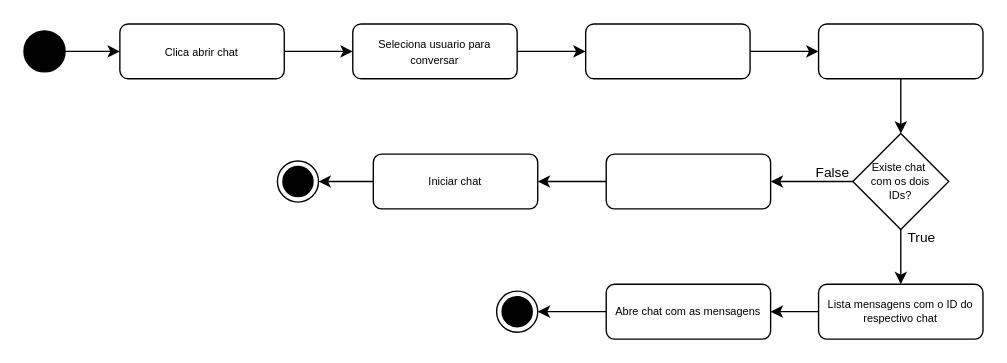
Image size: 1007x363. Some labels were removed from this diagram. Each missing label, with the centre of its shape:
"Cria novo chat no banco para a lista de IDs" belongs at (x=688, y=181).
"Pega ID usuario logado e ID do usuario para conversar" belongs at (x=667, y=51).
"Verifica existencia de chat com esses dois IDs" belongs at (x=900, y=51).
